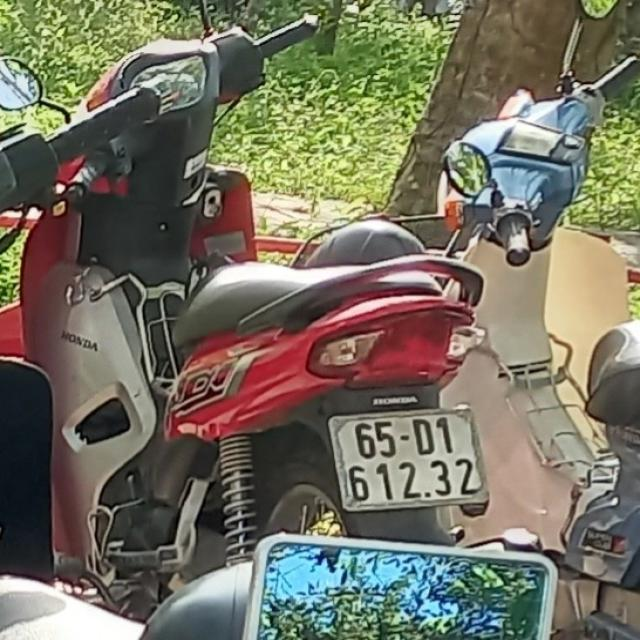1: (377, 462, 394, 502), (436, 417, 453, 452)
2: (398, 460, 421, 500), (455, 459, 479, 497)
3: (429, 459, 450, 495)
5: (374, 419, 398, 458)
6: (349, 462, 369, 503), (354, 422, 376, 459)
D: (412, 418, 434, 454)
